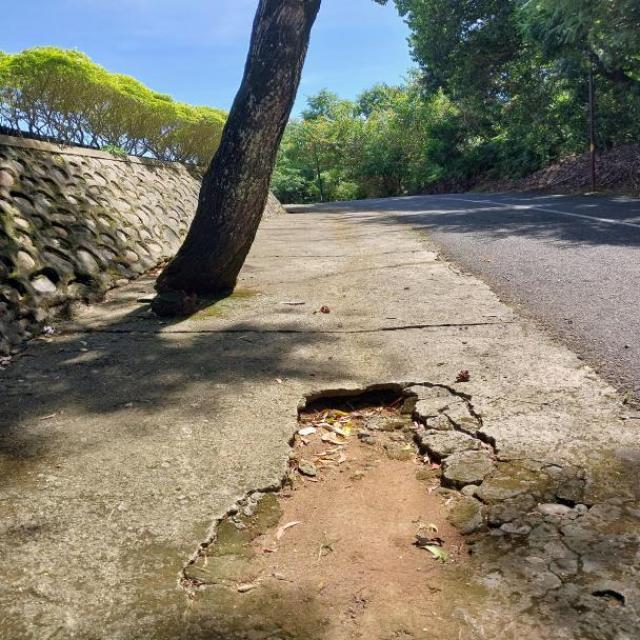pathole ahead at: (289, 373, 437, 493)
tree ahead at: (146, 0, 328, 300)
